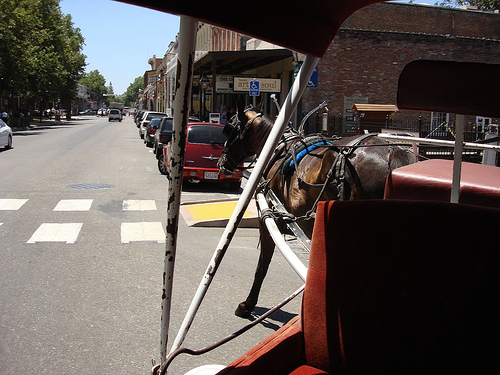horse: (216, 94, 418, 321)
